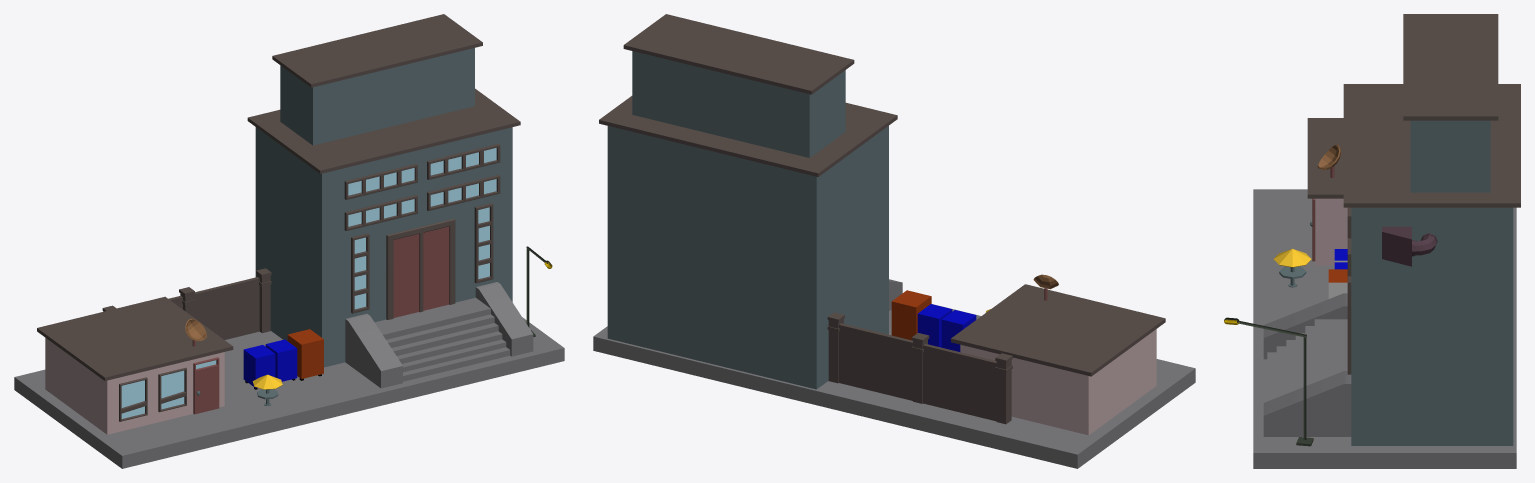
Rendered from Block_9.fbx.
3 renders of one model, left to right at view 1: azimuth 30°, elevation 25°; view 2: azimuth 150°, elevation 25°; view 3: azimuth 270°, elevation 25°, orthographic. The views are drawn at different scales.
Parts seen in each view (by area): view 1: polySurface301, polySurface303, polySurface302, polySurface300, polySurface320, polySurface305, polySurface310, polySurface304, polySurface297, polySurface321, polySurface298, polySurface306 (+10 smaller); view 2: polySurface301, polySurface302, polySurface300, polySurface303, polySurface310, polySurface313, VendingMachine2, polySurface314, VendingMachine1, VendingMachine1__1_, polySurface312, polySurface311; view 3: polySurface301, polySurface303, polySurface302, polySurface300, polySurface297, polySurface320, polySurface304, polySurface315, StreetLight, VendingMachine2, polySurface65__1_, polySurface321 (+2 smaller).
Boxes of the visible parts, x1,y1,x2,y2 form: polySurface301: [247, 88, 520, 367]; polySurface303: [14, 317, 564, 468]; polySurface302: [272, 14, 482, 145]; polySurface300: [37, 296, 233, 434]; polySurface320: [375, 297, 510, 381]; polySurface305: [386, 218, 455, 319]; polySurface310: [194, 277, 259, 339]; polySurface304: [345, 313, 402, 388]; polySurface297: [475, 282, 533, 356]; polySurface321: [474, 203, 493, 283]; polySurface298: [344, 194, 417, 230]; polySurface306: [427, 174, 500, 210]; polySurface301: [599, 96, 897, 389]; polySurface302: [623, 14, 854, 157]; polySurface300: [951, 284, 1165, 435]; polySurface303: [593, 304, 1195, 468]; polySurface310: [839, 323, 912, 400]; polySurface313: [923, 343, 996, 421]; VendingMachine2: [891, 290, 931, 340]; polySurface314: [995, 353, 1012, 424]; VendingMachine1: [917, 304, 952, 347]; VendingMachine1__1_: [941, 310, 976, 351]; polySurface312: [827, 312, 844, 383]; polySurface311: [911, 333, 929, 403]; polySurface301: [1343, 84, 1520, 445]; polySurface303: [1253, 189, 1516, 468]; polySurface302: [1403, 14, 1498, 192]; polySurface300: [1307, 118, 1347, 265]; polySurface297: [1263, 371, 1351, 436]; polySurface320: [1267, 319, 1347, 401]; polySurface304: [1263, 293, 1347, 359]; polySurface315: [1382, 226, 1411, 266]; StreetLight: [1224, 317, 1313, 446]; VendingMachine2: [1328, 269, 1347, 298]; polySurface65__1_: [1273, 248, 1311, 267]; polySurface321: [1347, 276, 1351, 374].
Bounding box in the file's own units: 725 × 427 × 338.
